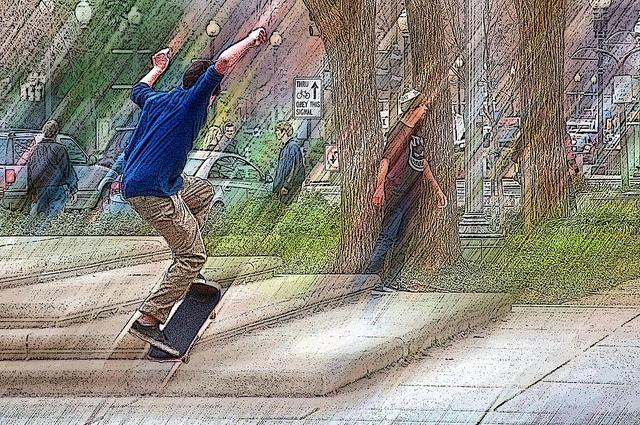car: (106, 150, 275, 221), (0, 128, 118, 212), (568, 122, 602, 153), (570, 141, 598, 165)
